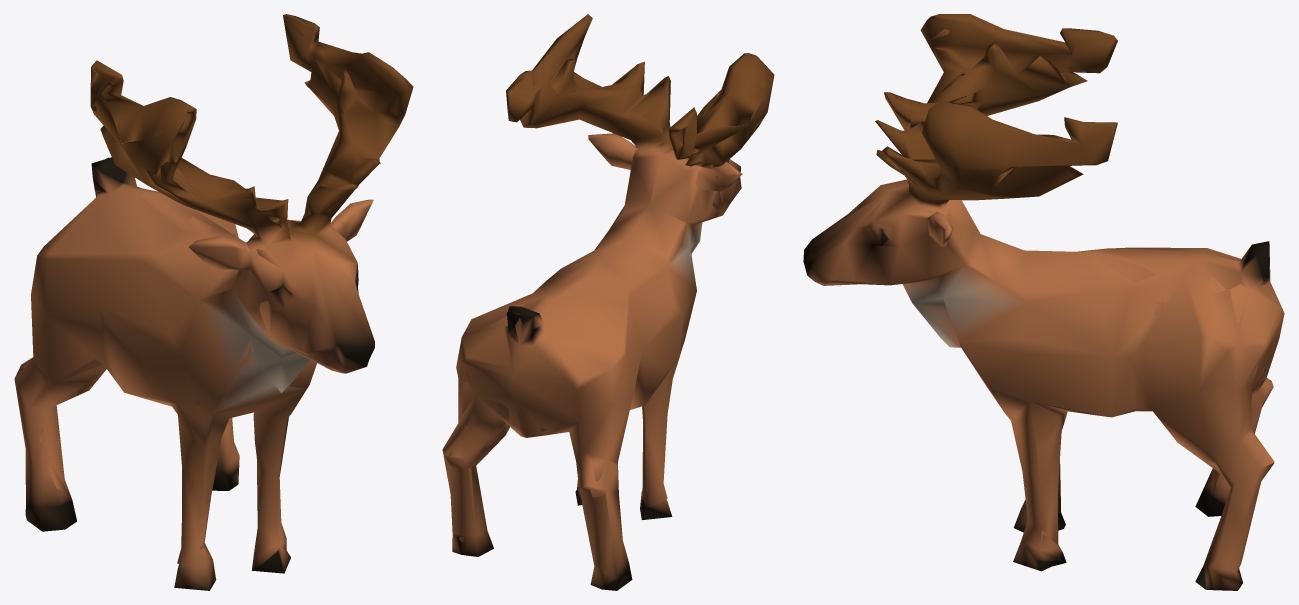
Rendered from gen3d-reindeer-lod1.glb.
3 renders of one model, left to right at view 1: azimuth 30°, elevation 25°; view 2: azimuth 150°, elevation 25°; view 3: azimuth 270°, elevation 25°, orthographic. The views are drawn at different scales.
Visible parts, largest first — view 1: part_0; view 2: part_0; view 3: part_0.
Part boxes in pixels (x1,y1,x2,y2): part_0: (14, 14, 413, 590); part_0: (442, 14, 774, 590); part_0: (803, 14, 1284, 590).
Bounding box in the file's own units: 0.5186 × 0.9993 × 0.891.
